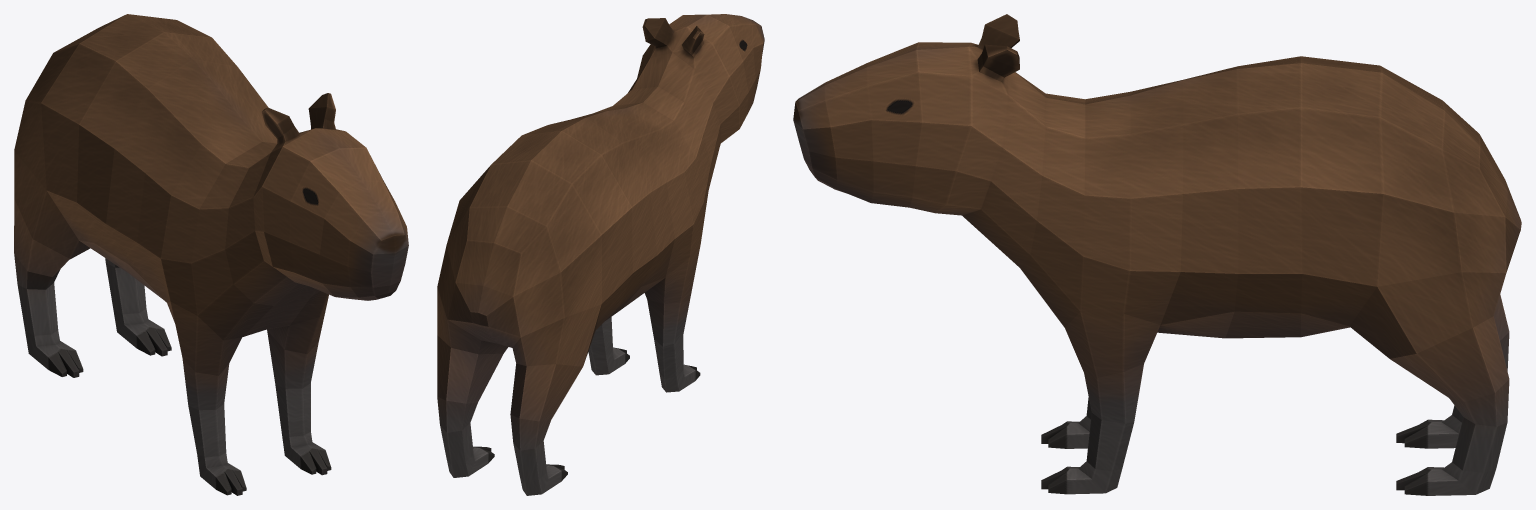
File: capybara.glb
The picture shows the model from 3 angles, left to right: view 1: azimuth 30°, elevation 25°; view 2: azimuth 150°, elevation 25°; view 3: azimuth 270°, elevation 25°; orthographic projection. The views are drawn at different scales.
Parts seen in each view (by area): view 1: Capybara_mesh; view 2: Capybara_mesh; view 3: Capybara_mesh.
Boxes of the visible parts, <box> form: Capybara_mesh: <box>14,14,408,495</box>; Capybara_mesh: <box>437,14,764,495</box>; Capybara_mesh: <box>793,14,1521,495</box>.
Size of the model in its own units: 2.16 by 4.72 by 7.16.
1 material, 1 textured.
